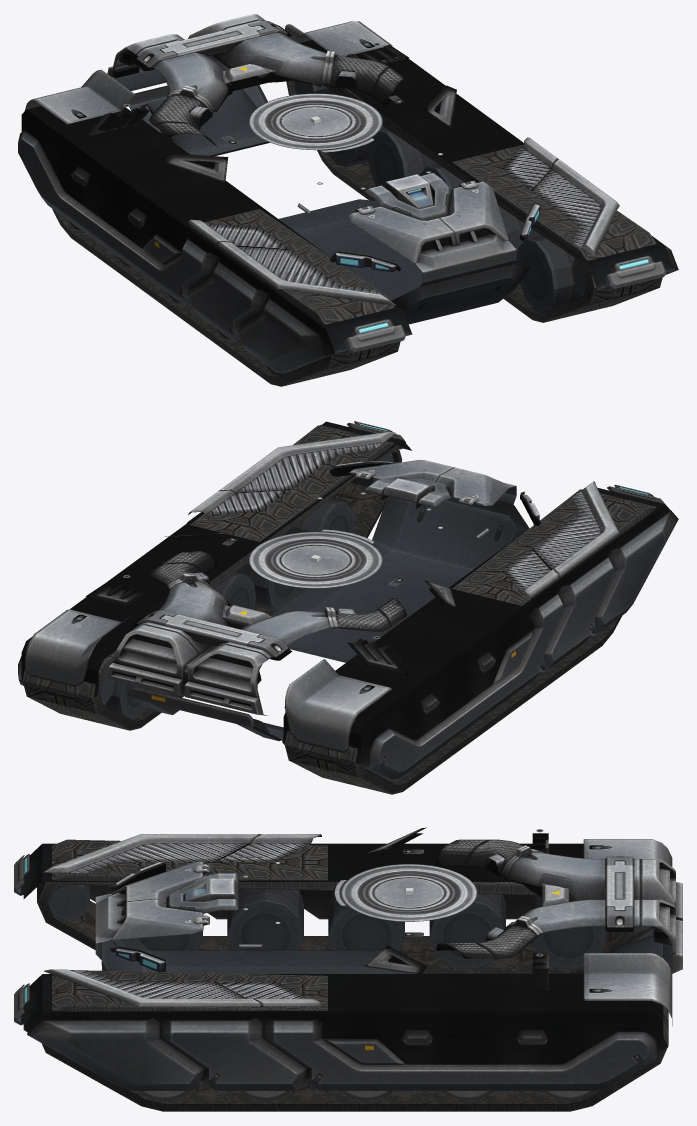
File: Viking_Standart.fbx
3 views of the same model, one above another, from view 1: azimuth 30°, elevation 25°; view 2: azimuth 150°, elevation 25°; view 3: azimuth 270°, elevation 25° (orthographic).
Parts seen in each view (by area): view 1: hull, lTrack, rTrack, lwheel_1, lwheel_4, lwheel_5, lwheel_2; view 2: hull, lTrack, rTrack, lwheel_1, lwheel_2, lwheel_3, lwheel_5; view 3: hull, lTrack, rTrack, rwheel_2, rwheel_4, rwheel_3, rwheel_5, rwheel_f, rwheel_1.
Part boxes in pixels (x1,y1,x2,y2): hull: [18, 14, 678, 373]; lTrack: [286, 80, 662, 322]; rTrack: [52, 208, 400, 386]; lwheel_1: [516, 235, 583, 311]; lwheel_4: [367, 128, 437, 186]; lwheel_5: [327, 93, 385, 167]; lwheel_2: [498, 205, 541, 264]; hull: [18, 421, 678, 780]; lTrack: [22, 425, 402, 730]; rTrack: [285, 489, 656, 794]; lwheel_1: [283, 498, 355, 535]; lwheel_2: [236, 562, 299, 610]; lwheel_3: [214, 572, 256, 609]; lwheel_5: [103, 680, 153, 719]; hull: [14, 827, 682, 1090]; lTrack: [41, 970, 668, 1111]; rTrack: [37, 839, 653, 973]; rwheel_2: [227, 888, 303, 950]; rwheel_4: [429, 894, 505, 970]; rwheel_3: [328, 890, 404, 951]; rwheel_5: [530, 895, 607, 970]; rwheel_f: [48, 884, 89, 920]; rwheel_1: [138, 930, 202, 950].
Bounding box in the file's own units: 4.32 × 1.63 × 6.72.
